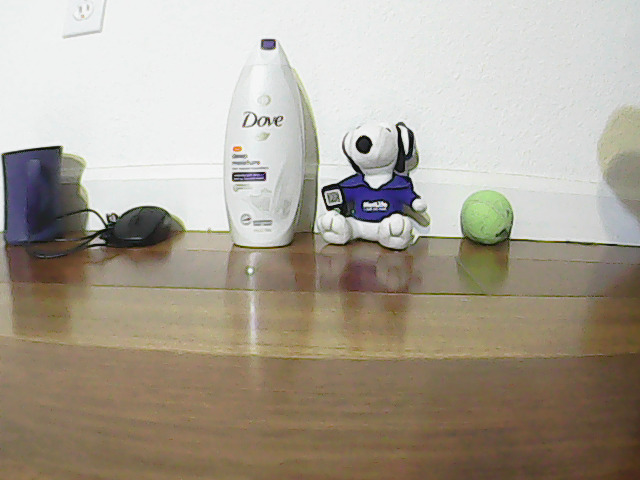ball: (460, 188, 516, 254)
mouse: (114, 200, 170, 254)
mug: (2, 139, 65, 245)
snoopy: (331, 108, 416, 259)
soap: (224, 35, 304, 246)
